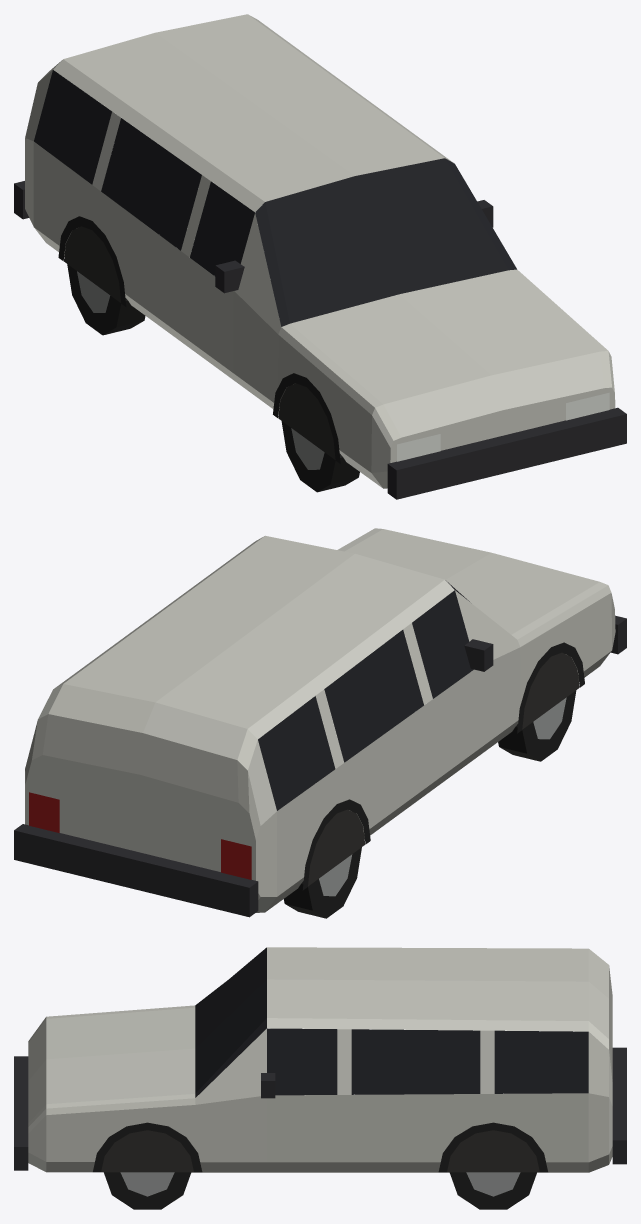
Rendered from town_suv 2.gltf.
3 renders of one model, top to bottom at view 1: azimuth 30°, elevation 25°; view 2: azimuth 150°, elevation 25°; view 3: azimuth 270°, elevation 25°, orthographic. The views are drawn at different scales.
Visible parts, largest first — view 1: TownSuv_Body, TownSuv_Glass, TownSuv_Bumpers, TownSuv_Arches, TownSuv_Tyres, TownSuv_Headlights, TownSuv_Rims, TownSuv_Mirrors; view 2: TownSuv_Body, TownSuv_Glass, TownSuv_Bumpers, TownSuv_Arches, TownSuv_Tyres, TownSuv_Taillights, TownSuv_Rims, TownSuv_Mirrors; view 3: TownSuv_Body, TownSuv_Glass, TownSuv_Arches, TownSuv_Bumpers, TownSuv_Tyres, TownSuv_Rims, TownSuv_Mirrors.
Boxes of the visible parts, x1=… form: TownSuv_Body: x1=25, y1=14, x2=615, y2=488; TownSuv_Glass: x1=34, y1=70, x2=516, y2=326; TownSuv_Bumpers: x1=14, y1=181, x2=626, y2=499; TownSuv_Arches: x1=58, y1=216, x2=340, y2=463; TownSuv_Tyres: x1=67, y1=264, x2=359, y2=492; TownSuv_Headlights: x1=397, y1=392, x2=609, y2=461; TownSuv_Rims: x1=77, y1=271, x2=324, y2=469; TownSuv_Mirrors: x1=215, y1=200, x2=493, y2=293; TownSuv_Body: x1=25, y1=528, x2=615, y2=912; TownSuv_Glass: x1=258, y1=580, x2=473, y2=810; TownSuv_Bumpers: x1=14, y1=615, x2=626, y2=917; TownSuv_Arches: x1=302, y1=642, x2=584, y2=890; TownSuv_Tyres: x1=283, y1=690, x2=576, y2=918; TownSuv_Taillights: x1=29, y1=792, x2=251, y2=879; TownSuv_Rims: x1=319, y1=697, x2=566, y2=896; TownSuv_Mirrors: x1=464, y1=639, x2=493, y2=671; TownSuv_Body: x1=28, y1=947, x2=612, y2=1172; TownSuv_Glass: x1=195, y1=947, x2=588, y2=1097; TownSuv_Arches: x1=93, y1=1122, x2=547, y2=1172; TownSuv_Bumpers: x1=14, y1=1047, x2=626, y2=1170; TownSuv_Tyres: x1=104, y1=1172, x2=536, y2=1209; TownSuv_Rims: x1=120, y1=1172, x2=520, y2=1196; TownSuv_Mirrors: x1=261, y1=1073, x2=275, y2=1098.
Size of what is drawn, in the model's own units: 2.1 by 1.69 by 5.14.
Materials: 1 (1 with a texture image).
